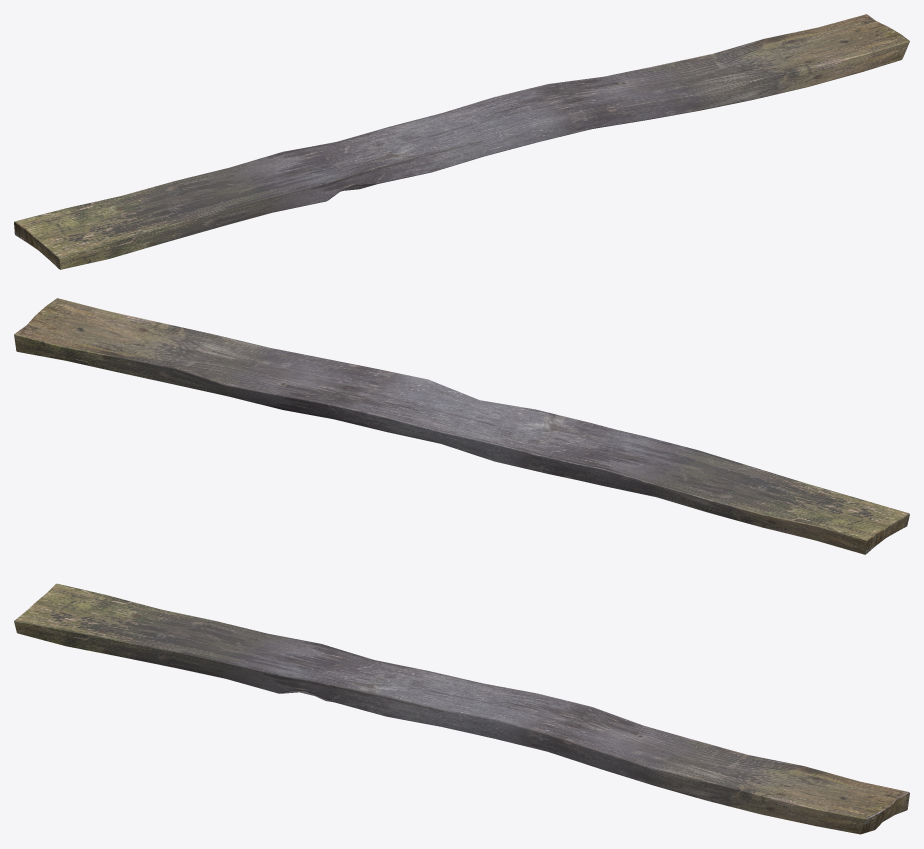
Rendered from SM_WoodPlank_01_06.fbx.
3 views of the same model, one above another, from view 1: azimuth 30°, elevation 25°; view 2: azimuth 150°, elevation 25°; view 3: azimuth 330°, elevation 25° (orthographic).
Parts seen in each view (by area): view 1: sm_WoodPlank_01_06_LOD0; view 2: sm_WoodPlank_01_06_LOD0; view 3: sm_WoodPlank_01_06_LOD0.
Boxes of the visible parts, box(x1,y1,x2,y2) form: sm_WoodPlank_01_06_LOD0: box(14, 14, 909, 269); sm_WoodPlank_01_06_LOD0: box(14, 298, 909, 554); sm_WoodPlank_01_06_LOD0: box(14, 583, 909, 834).
Bounding box in the file's own units: 14.19 × 150 × 5.43.
